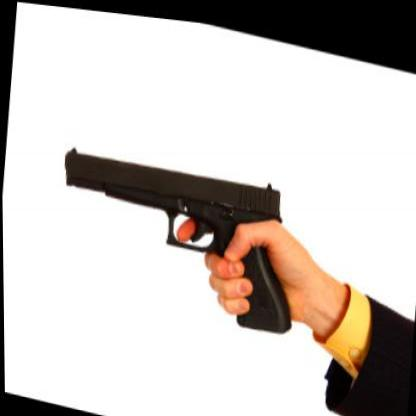pistol: (49, 120, 304, 332)
